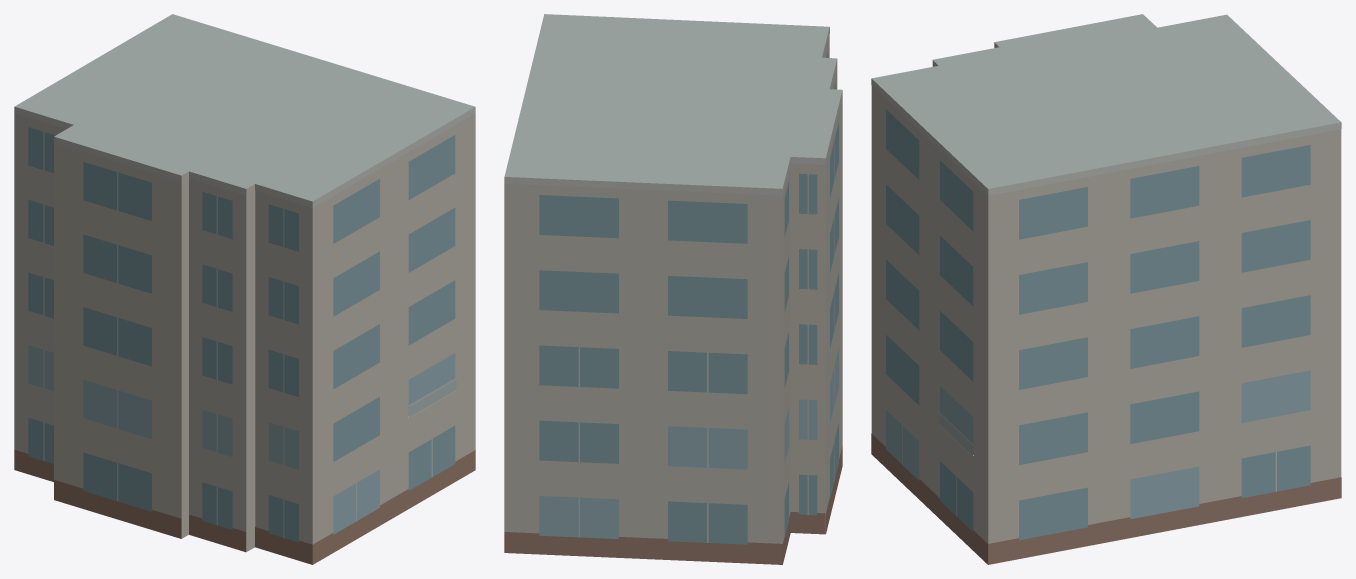
File: survey-upis-32522882.glb
3 renders of one model, left to right at view 1: azimuth 30°, elevation 25°; view 2: azimuth 150°, elevation 25°; view 3: azimuth 270°, elevation 25°, orthographic. The views are drawn at different scales.
Visible parts, largest first — view 1: survey-upis-32522882.tmp; view 2: survey-upis-32522882.tmp; view 3: survey-upis-32522882.tmp.
Part boxes in pixels (x1,y1,x2,y2): survey-upis-32522882.tmp: (14, 14, 475, 564); survey-upis-32522882.tmp: (504, 14, 842, 564); survey-upis-32522882.tmp: (871, 14, 1341, 564).
Size of the model in its own units: 13.65 by 13.65 by 15.48.
